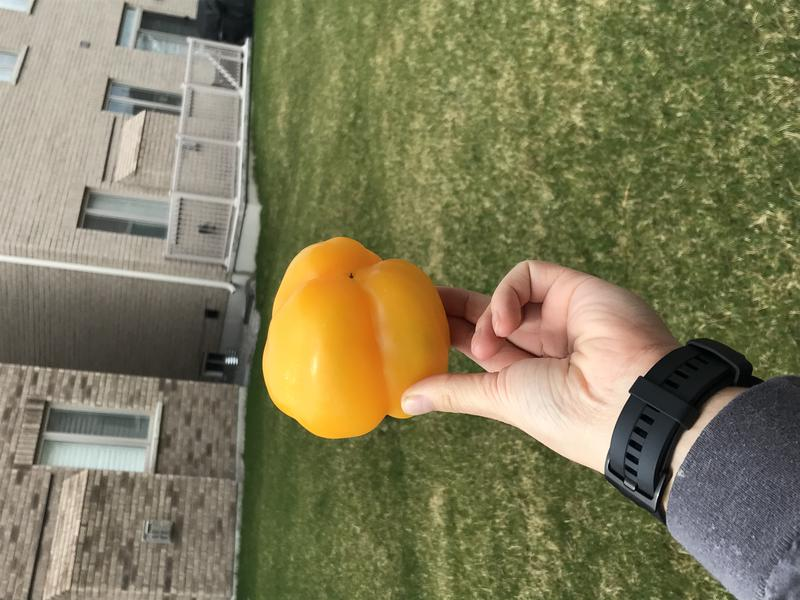yellow_pepper: (261, 231, 462, 441)
